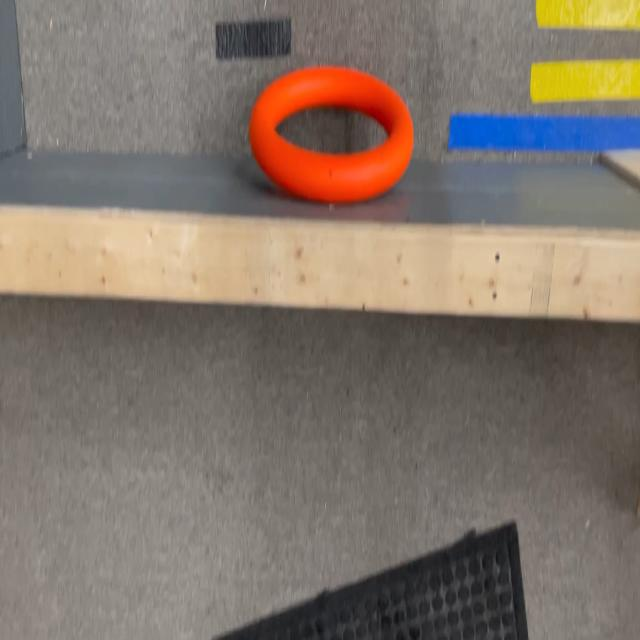note: (248, 64, 413, 202)
